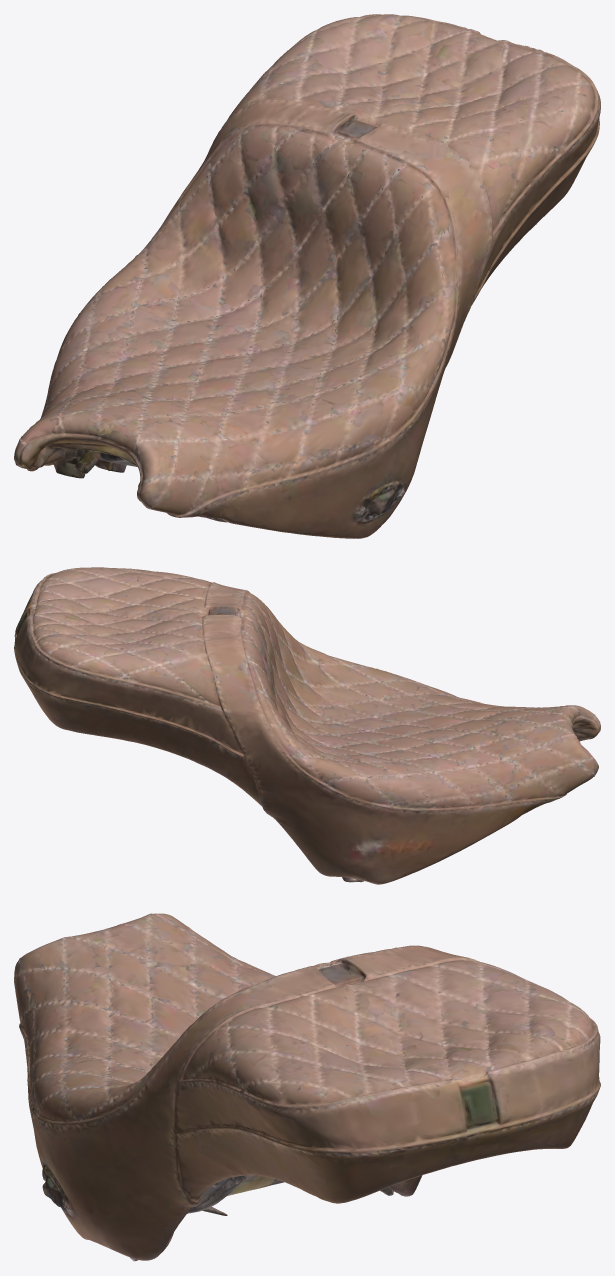
The model's file is sella_scout_biposto.glb.
3 renders of one model, top to bottom at view 1: azimuth 30°, elevation 25°; view 2: azimuth 150°, elevation 25°; view 3: azimuth 270°, elevation 25°, orthographic. The views are drawn at different scales.
Visible parts, largest first — view 1: Object_2; view 2: Object_2; view 3: Object_2.
Boxes of the visible parts, box(x1,y1,x2,y2) form: Object_2: box(14, 14, 600, 538); Object_2: box(14, 567, 600, 884); Object_2: box(14, 913, 600, 1261).
Bounding box in the file's own units: 0.5282 × 0.2399 × 0.3704.
Materials: 1 (1 with a texture image).
